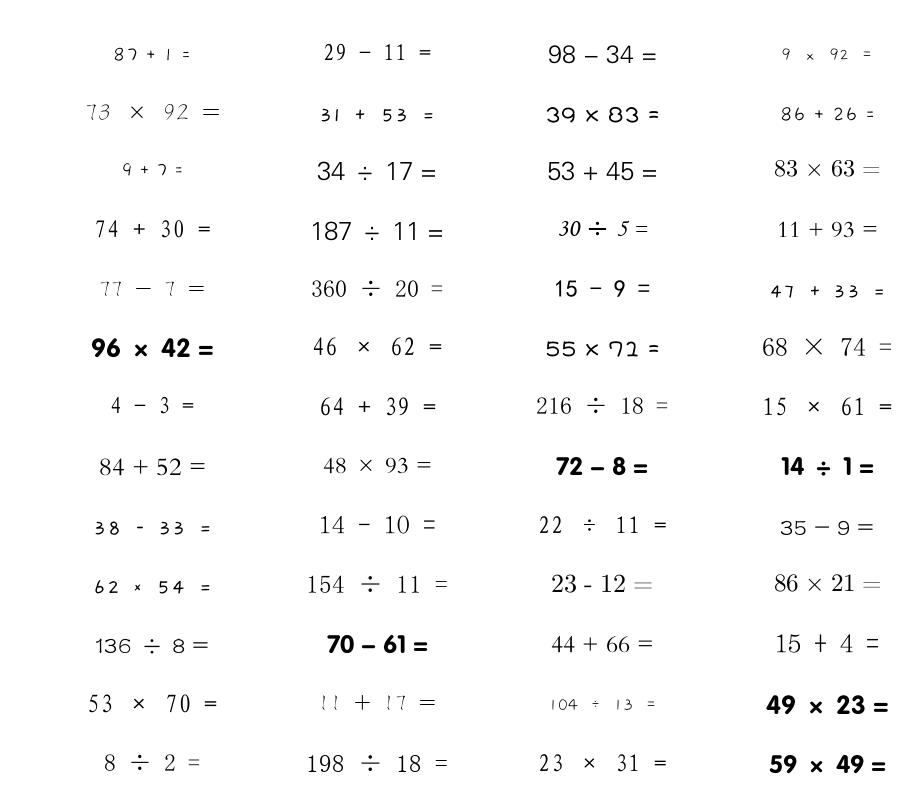MQ: (310, 221, 444, 241), (306, 575, 448, 593), (306, 754, 448, 772), (312, 337, 442, 356), (762, 397, 892, 416), (87, 694, 217, 713), (91, 338, 214, 358), (766, 695, 889, 715), (317, 161, 437, 181), (762, 338, 892, 356), (769, 754, 886, 774), (538, 516, 667, 534), (538, 754, 667, 772), (85, 104, 220, 121), (311, 280, 443, 297), (536, 397, 668, 414), (319, 397, 436, 416), (319, 515, 436, 534), (547, 161, 658, 181), (94, 220, 211, 238), (548, 45, 657, 64), (327, 634, 428, 654), (775, 634, 879, 653), (545, 106, 660, 123), (323, 43, 431, 61), (551, 574, 653, 593), (774, 159, 881, 177), (99, 458, 206, 476), (774, 574, 881, 592), (318, 695, 436, 711), (781, 456, 874, 476), (323, 457, 432, 474), (545, 341, 660, 357), (556, 456, 648, 476), (95, 638, 209, 654), (551, 636, 654, 653), (777, 221, 878, 238), (99, 281, 205, 297), (92, 580, 212, 594), (93, 521, 212, 535), (554, 280, 650, 297), (104, 754, 200, 771), (319, 108, 435, 122), (769, 285, 886, 298), (110, 396, 194, 414), (557, 220, 648, 236), (780, 107, 875, 122), (780, 520, 874, 535), (548, 699, 657, 711), (781, 48, 873, 61), (113, 47, 191, 62), (121, 163, 184, 177)
